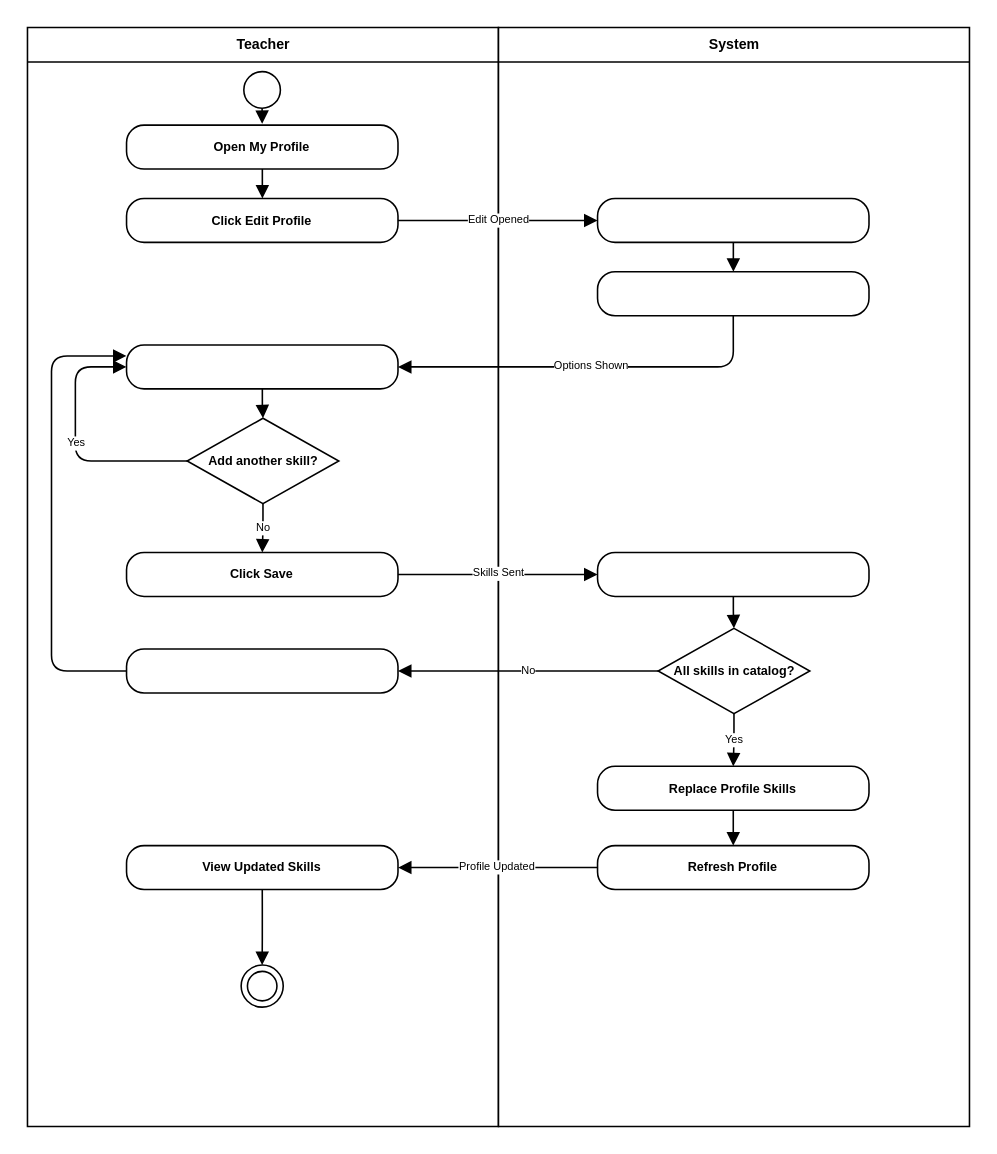
The diagram is 997 pixels wide and 1154 high, and some of its shapes have lost their labels. Here are the shapes that lost their labels. From the top down, the centre of each, then its label:
At (x=732, y=219): "Load Skill Catalog".
At (x=732, y=293): "Show Skills Grouped by Category".
At (x=261, y=366): "Search & Select a Skill".
At (x=732, y=573): "Validate Skills Against Catalog".
At (x=261, y=670): "Remove Unlisted Skill".
